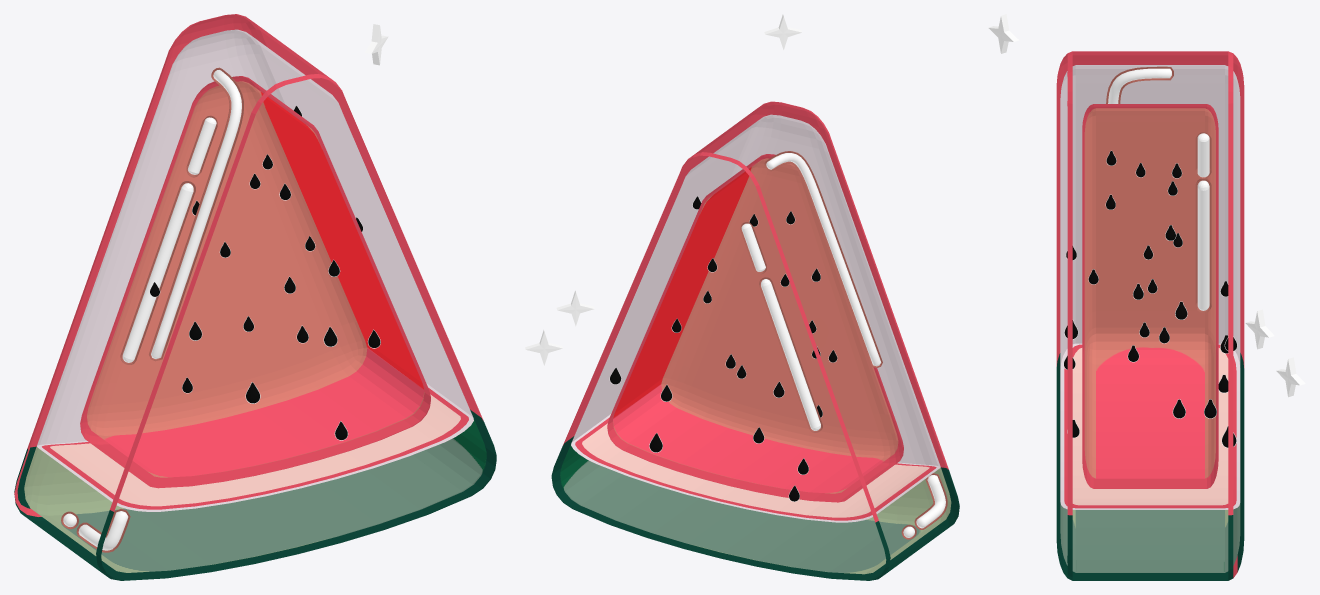
The model's file is watermelon.glb.
3 views of the same model, side by side, from view 1: azimuth 30°, elevation 25°; view 2: azimuth 150°, elevation 25°; view 3: azimuth 270°, elevation 25° (orthographic). The views are drawn at different scales.
Visible parts, largest first — view 1: center-glass, main-glass, base-glass, outline, base-top-glass, base, side-shine, front-shine, seeds, side-shine-outline, front-shine-outline, seeds2; view 2: center-glass, main-glass, base-glass, outline, base-top-glass, base, side-shine, front-shine, seeds, side-shine-outline, sparkles, front-shine-outline (+1 smaller); view 3: center-glass, outline, main-glass, base-glass, base-top-glass, base, seeds, front-shine, sparkles, front-shine-outline, seeds2, side-shine (+1 smaller).
Part boxes in pixels (box(x1,y1,x2,y2)): center-glass: box(87, 81, 424, 477); main-glass: box(37, 29, 473, 511); base-glass: box(24, 419, 486, 572); outline: box(14, 14, 483, 516); base-top-glass: box(50, 394, 460, 506); base: box(14, 409, 496, 580); side-shine: box(78, 70, 241, 550); front-shine: box(63, 117, 216, 526); seeds: box(150, 106, 380, 439); side-shine-outline: box(76, 67, 243, 552); front-shine-outline: box(61, 115, 217, 529); seeds2: box(149, 105, 380, 440); center-glass: box(613, 158, 898, 493); main-glass: box(571, 114, 940, 522); base-glass: box(560, 444, 951, 574); outline: box(563, 101, 948, 522); base-top-glass: box(582, 423, 929, 517); base: box(551, 436, 959, 580); side-shine: box(766, 153, 945, 528); front-shine: box(741, 223, 914, 537); seeds: box(610, 196, 837, 501); side-shine-outline: box(764, 151, 947, 529); sparkles: box(525, 14, 802, 365); front-shine-outline: box(740, 222, 916, 539); center-glass: box(1084, 108, 1215, 478); outline: box(1056, 51, 1244, 577); main-glass: box(1060, 65, 1240, 509); base-glass: box(1060, 502, 1240, 572); base-top-glass: box(1072, 348, 1228, 505); base: box(1056, 353, 1244, 580); seeds: box(1064, 151, 1236, 447); front-shine: box(1197, 133, 1209, 310); sparkles: box(988, 14, 1305, 397); front-shine-outline: box(1195, 132, 1211, 312); seeds2: box(1063, 150, 1237, 448); side-shine: box(1108, 68, 1171, 103).
Bounding box in the file's own units: 1.99 × 2.58 × 1.43.
13 materials, 2 textured.
